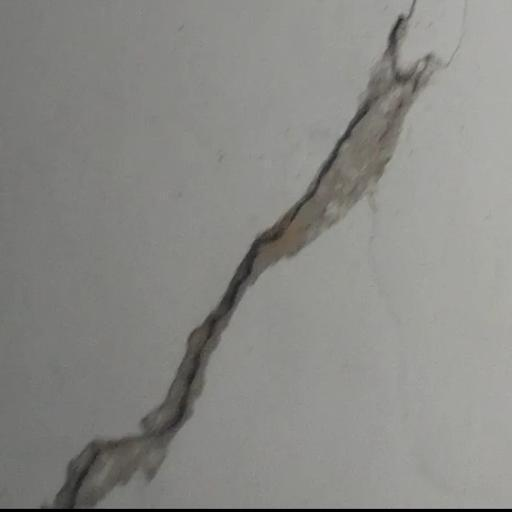major_crack: (56, 0, 466, 512)
